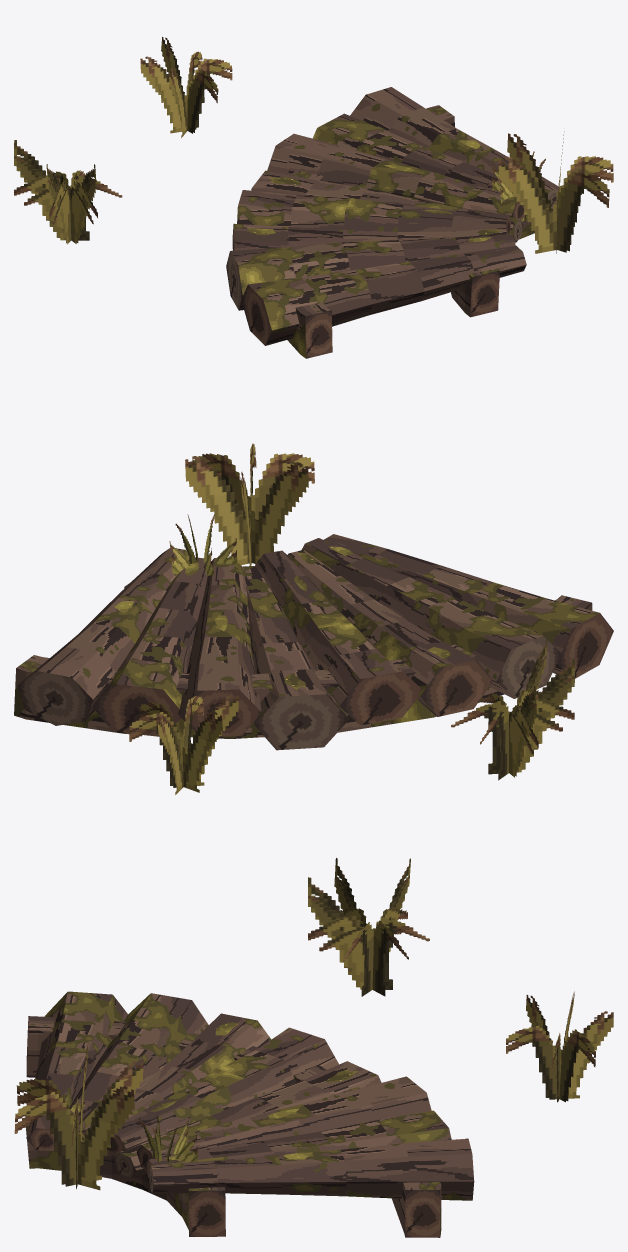
File: SM_SW13_CorduroyCorner.fbx
The picture shows the model from 3 angles, top to bottom: view 1: azimuth 30°, elevation 25°; view 2: azimuth 150°, elevation 25°; view 3: azimuth 270°, elevation 25°; orthographic projection. The views are drawn at different scales.
Visible parts, largest first — view 1: SW13b_Bark, SW13b_Plants, SW13b_Props, SW13b_Moss; view 2: SW13b_Bark, SW13b_Plants, SW13b_Props, SW13b_Moss; view 3: SW13b_Bark, SW13b_Plants, SW13b_Props, SW13b_Moss.
Part boxes in pixels (x1=…): SW13b_Bark: x1=230, y1=87, x2=559, y2=358; SW13b_Plants: x1=14, y1=37, x2=613, y2=253; SW13b_Props: x1=226, y1=188, x2=559, y2=358; SW13b_Moss: x1=247, y1=140, x2=501, y2=241; SW13b_Bark: x1=14, y1=534, x2=599, y2=738; SW13b_Plants: x1=129, y1=443, x2=574, y2=794; SW13b_Props: x1=17, y1=613, x2=613, y2=750; SW13b_Moss: x1=113, y1=546, x2=451, y2=690; SW13b_Bark: x1=25, y1=991, x2=474, y2=1236; SW13b_Plants: x1=14, y1=858, x2=613, y2=1190; SW13b_Props: x1=26, y1=1021, x2=440, y2=1237; SW13b_Moss: x1=71, y1=1022, x2=358, y2=1159.
Size of the model in its own units: 4.07 by 1.33 by 4.17.
